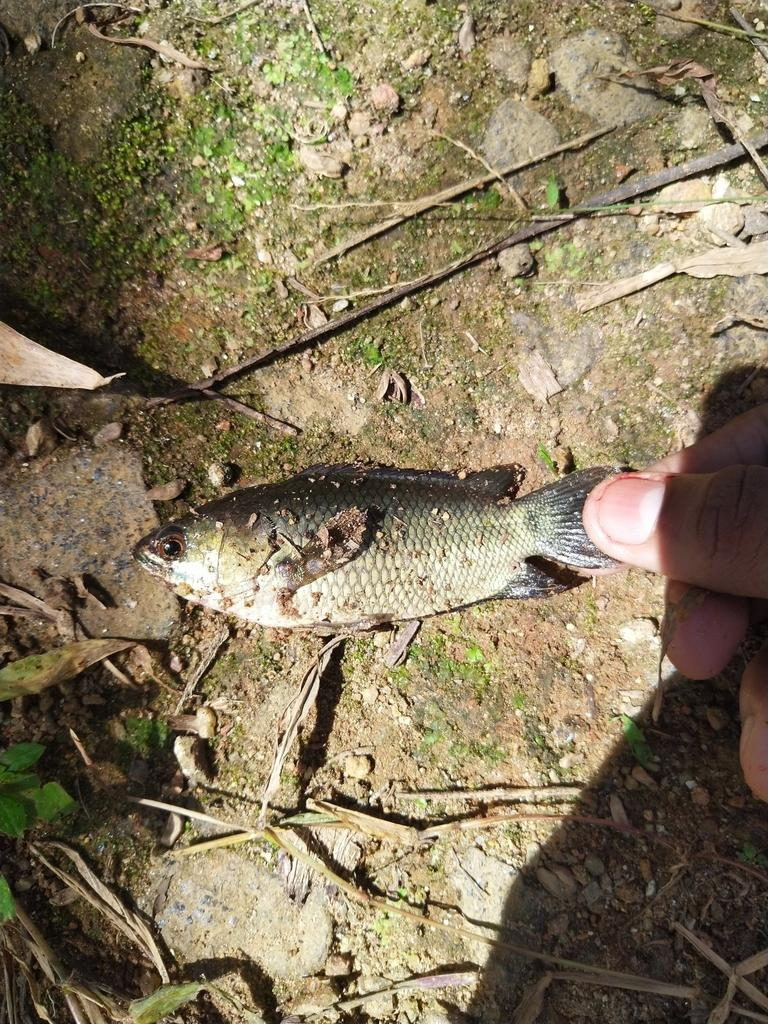Climbing Perch: (133, 452, 613, 630)
